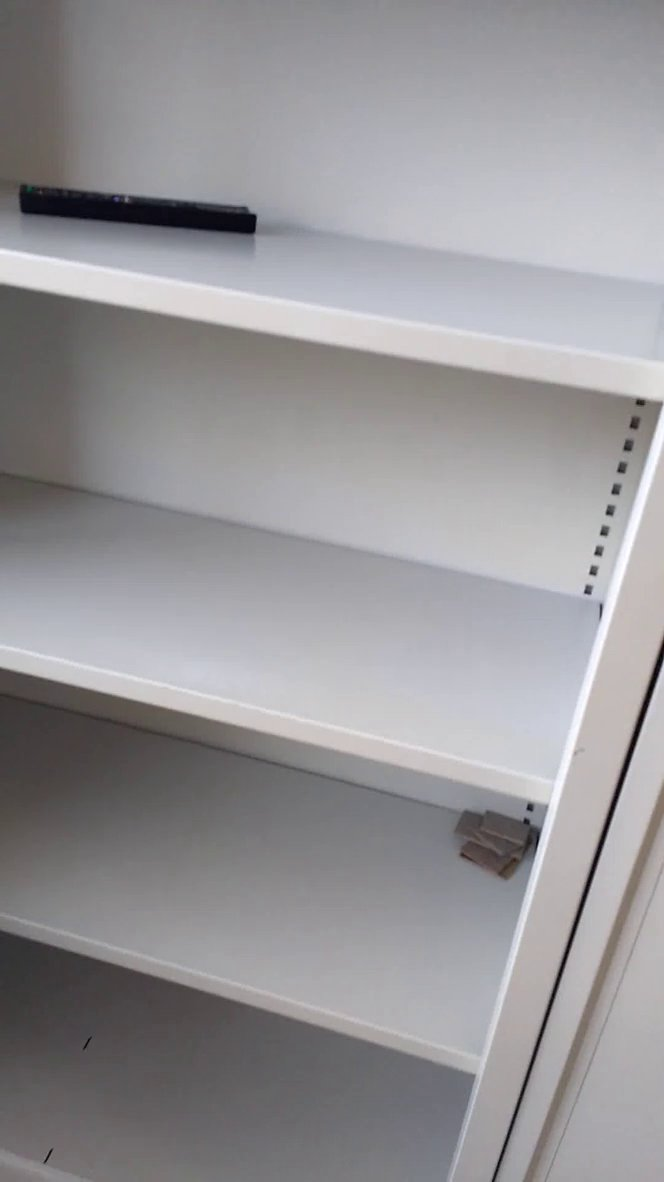remote: (9, 163, 264, 242)
